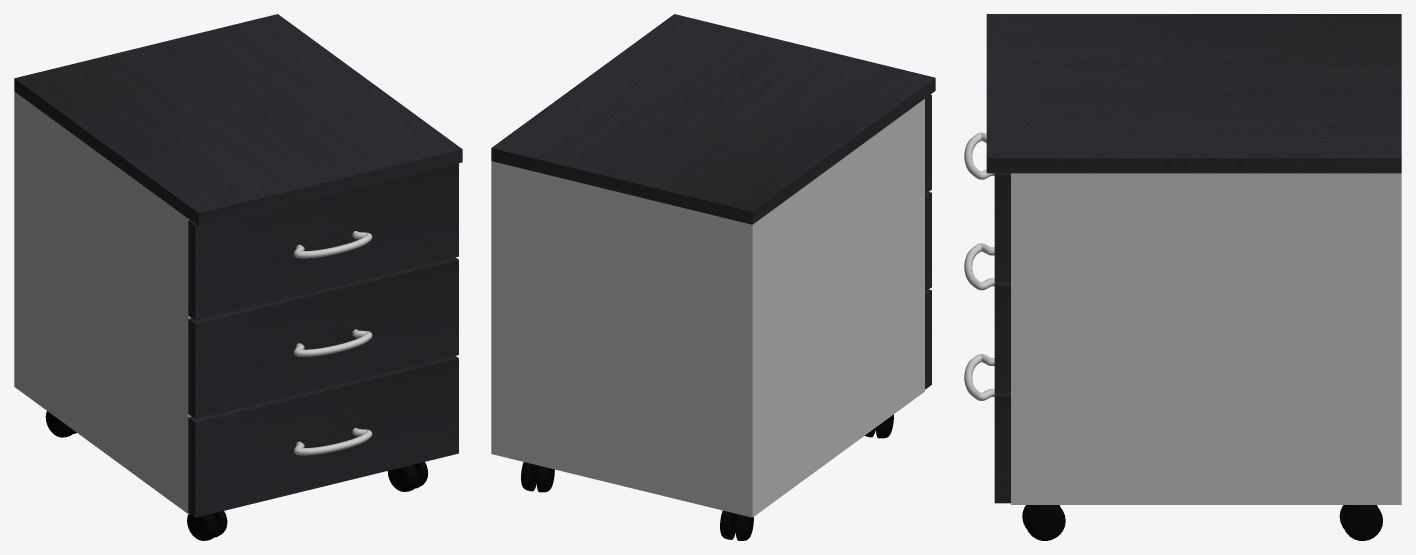
Rendered from sweethome3d-lucapresidente-drawer-unit-on-casters-18.glb.
3 renders of one model, left to right at view 1: azimuth 30°, elevation 25°; view 2: azimuth 150°, elevation 25°; view 3: azimuth 270°, elevation 25°, orthographic. The views are drawn at different scales.
Visible parts, largest first — view 1: Box62_1, Box66_5, Box64_3, Box63_2, Box65_4, Line57_19, Line58_20, Line56_18, Line47_9, Line44_6; view 2: Box66_5, Box62_1, Box64_3, Box63_2, Box65_4; view 3: Box66_5, Box62_1, Box63_2, Box64_3, Box65_4, Line46_8, Line51_13, Line57_19, Line56_18, Line58_20.
Part boxes in pixels (x1=…): Box62_1: x1=14, y1=14, x2=462, y2=226; Box66_5: x1=14, y1=91, x2=191, y2=513; Box64_3: x1=188, y1=257, x2=458, y2=419; Box63_2: x1=188, y1=356, x2=458, y2=517; Box65_4: x1=188, y1=163, x2=458, y2=320; Line57_19: x1=294, y1=329, x2=372, y2=356; Line58_20: x1=293, y1=231, x2=372, y2=258; Line56_18: x1=293, y1=428, x2=372, y2=455; Line47_9: x1=187, y1=513, x2=217, y2=540; Line44_6: x1=387, y1=464, x2=418, y2=491; Box66_5: x1=491, y1=99, x2=924, y2=517; Box62_1: x1=491, y1=14, x2=935, y2=224; Box64_3: x1=925, y1=192, x2=931, y2=291; Box63_2: x1=925, y1=289, x2=931, y2=389; Box65_4: x1=925, y1=94, x2=931, y2=194; Box66_5: x1=1011, y1=173, x2=1401, y2=504; Box62_1: x1=986, y1=14, x2=1401, y2=173; Box63_2: x1=994, y1=392, x2=1010, y2=503; Box64_3: x1=994, y1=282, x2=1010, y2=392; Box65_4: x1=994, y1=173, x2=1010, y2=281; Line46_8: x1=1025, y1=505, x2=1065, y2=540; Line51_13: x1=1343, y1=505, x2=1382, y2=540; Line57_19: x1=964, y1=243, x2=994, y2=290; Line56_18: x1=964, y1=354, x2=994, y2=400; Line58_20: x1=964, y1=132, x2=994, y2=179.
Size of the model in its own units: 42 by 53.5 by 53.75.
3 materials, 1 textured.
